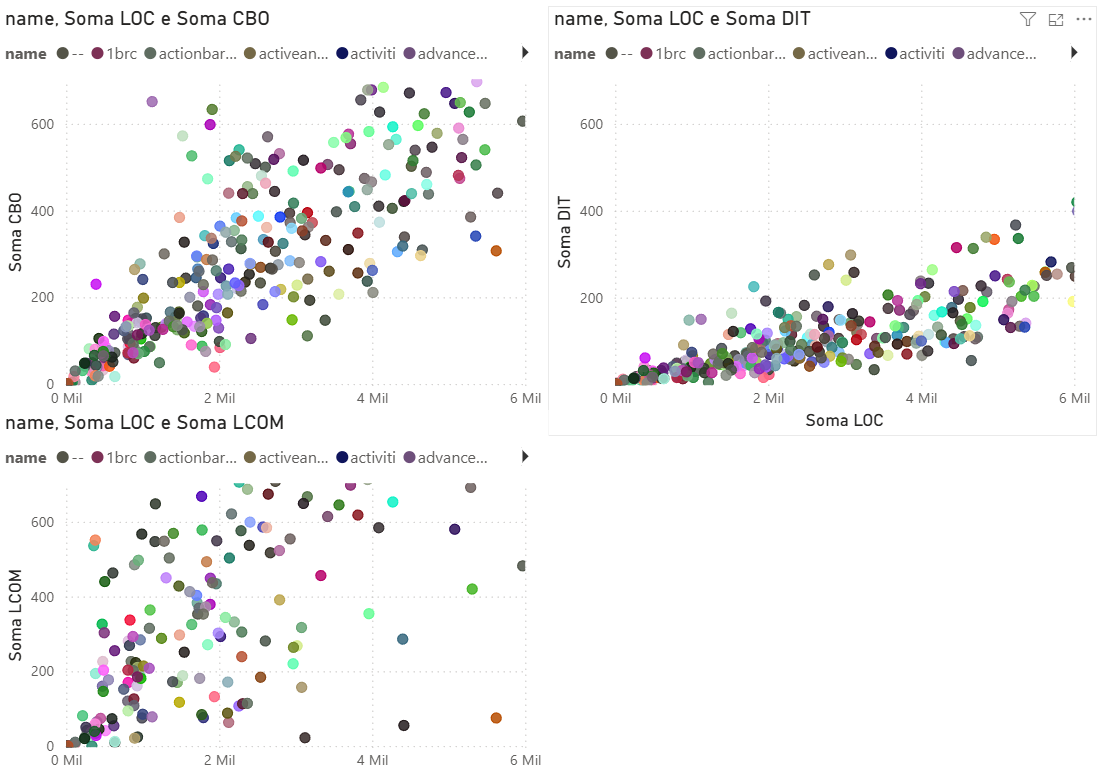

The dashboard page shown, as its layout file describes it:
{"tool":"powerbi","page":{"name":"Duplicata de Duplicata de lab2","canvas":[1280,720],"ordinal":3},"visuals":[{"type":"scatterChart","fields":{"Series":["repositorios.name"],"Y":["class.Soma CBO"],"X":["repositorios.releases"]},"box":[0,25,457.5,358.3],"z":0},{"type":"scatterChart","fields":{"Series":["repositorios.name"],"Y":["class.Soma DIT"],"X":["repositorios.releases"]},"box":[457.5,25,457.5,358.3],"z":1000},{"type":"scatterChart","fields":{"Series":["repositorios.name"],"Y":["class.Soma LCOM"],"X":["repositorios.releases"]},"box":[0,360,457.5,310.8],"z":2000}]}

Visuals, with their boxes on the page's 1280x720 design canvas (x1, y1, x2, y2). These are canvas units, not pixel positions in the 1097x774 screenshot, which may show the page scaled, cropped or inside an application window:
scatterChart - repositorios.name x class.Soma CBO: (left=0, top=25, right=458, bottom=383)
scatterChart - repositorios.name x class.Soma DIT: (left=458, top=25, right=915, bottom=383)
scatterChart - repositorios.name x class.Soma LCOM: (left=0, top=360, right=458, bottom=671)
